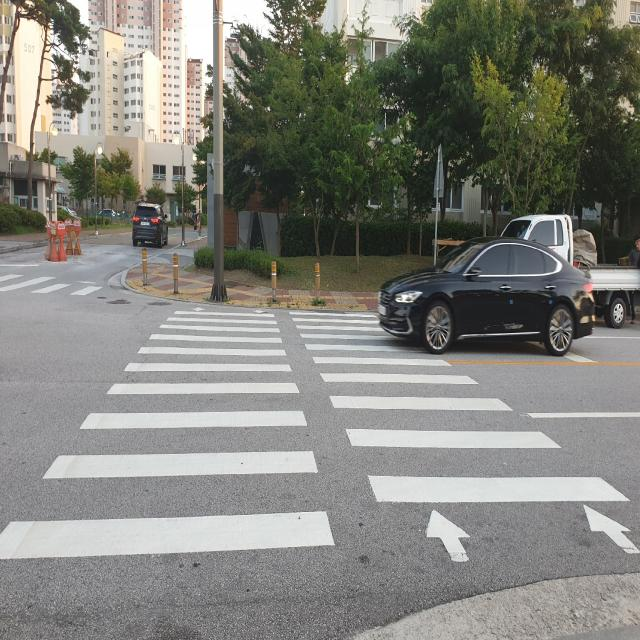횡단보도: (0, 304, 640, 564), (0, 272, 107, 304)
